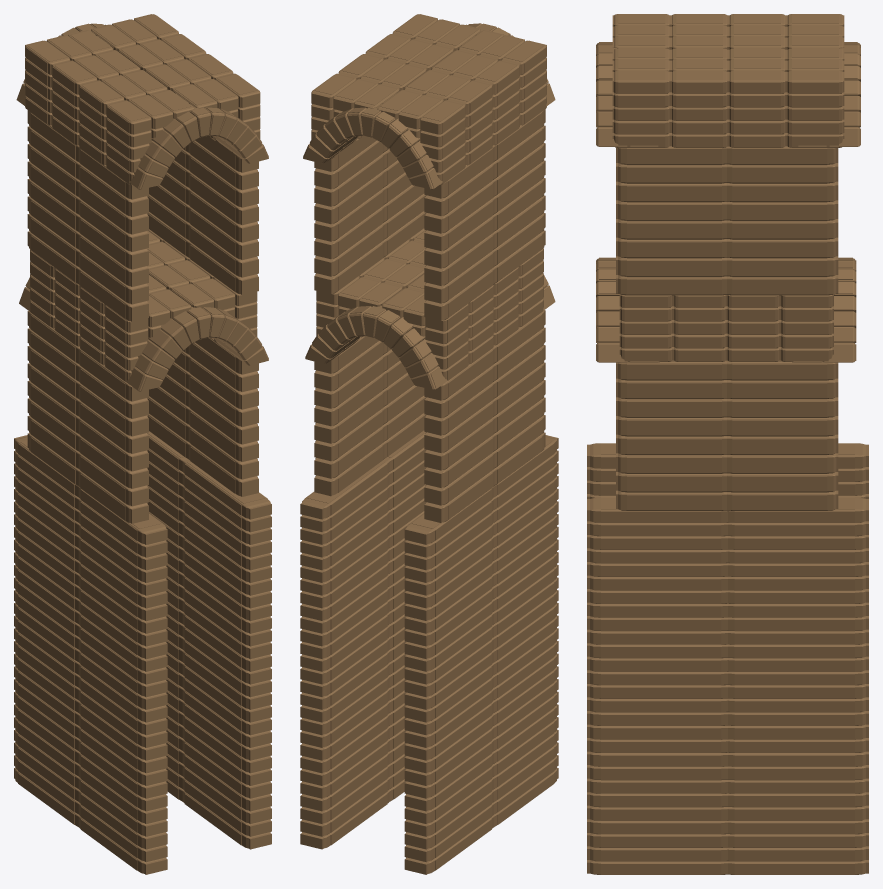
The model's file is Columna.fbx.
The picture shows the model from 3 angles, left to right: view 1: azimuth 30°, elevation 25°; view 2: azimuth 150°, elevation 25°; view 3: azimuth 270°, elevation 25°; orthographic projection. The views are drawn at different scales.
Visible parts, largest first — view 1: ArcoLadrillos.001; view 2: ArcoLadrillos.001; view 3: ArcoLadrillos.001.
Boxes of the visible parts, x1,y1,x2,y2 form: ArcoLadrillos.001: (14,14,271,874); ArcoLadrillos.001: (300,14,558,874); ArcoLadrillos.001: (587,14,868,874).
Size of the model in its own units: 2.38 by 12.89 by 4.14.
